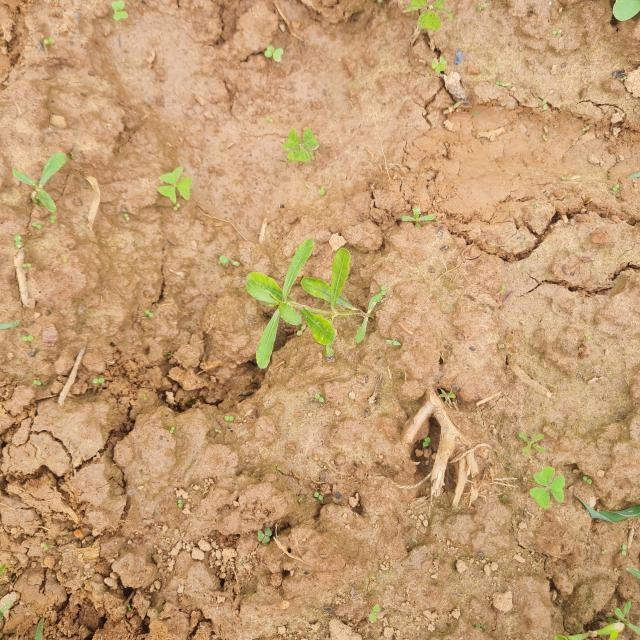weed: (131, 134, 415, 370), (510, 434, 618, 533)
